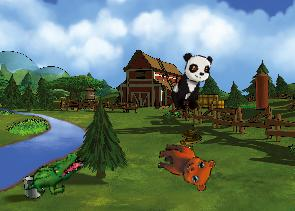bear: (152, 141, 217, 193)
crocodile: (23, 140, 87, 209)
panda: (167, 49, 215, 115)
